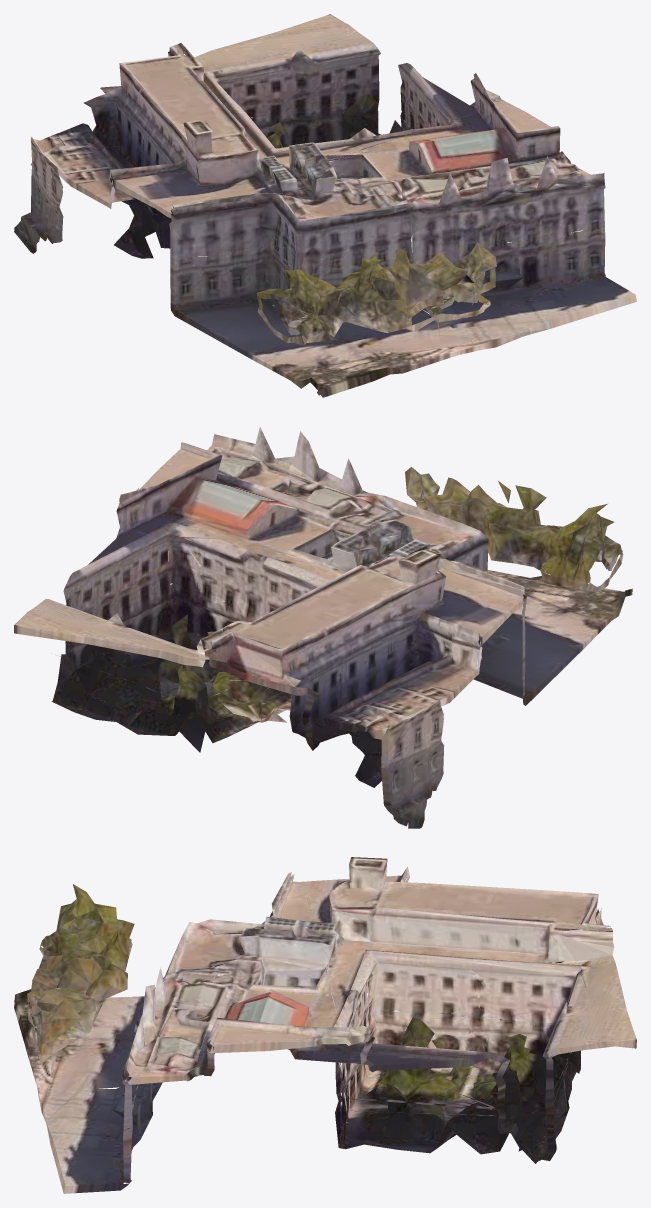
The picture shows the model from 3 angles, top to bottom: view 1: azimuth 30°, elevation 25°; view 2: azimuth 150°, elevation 25°; view 3: azimuth 270°, elevation 25°; orthographic projection. The views are drawn at different scales.
Visible parts, largest first — view 1: Mesh_0; view 2: Mesh_0; view 3: Mesh_0.
Boxes of the visible parts, x1,y1,x2,y2 form: Mesh_0: [14, 14, 636, 397]; Mesh_0: [14, 427, 632, 828]; Mesh_0: [14, 857, 636, 1193].
Bounding box in the file's own units: 66.59 × 27.24 × 82.52.
Materials: 2 (2 with a texture image).
